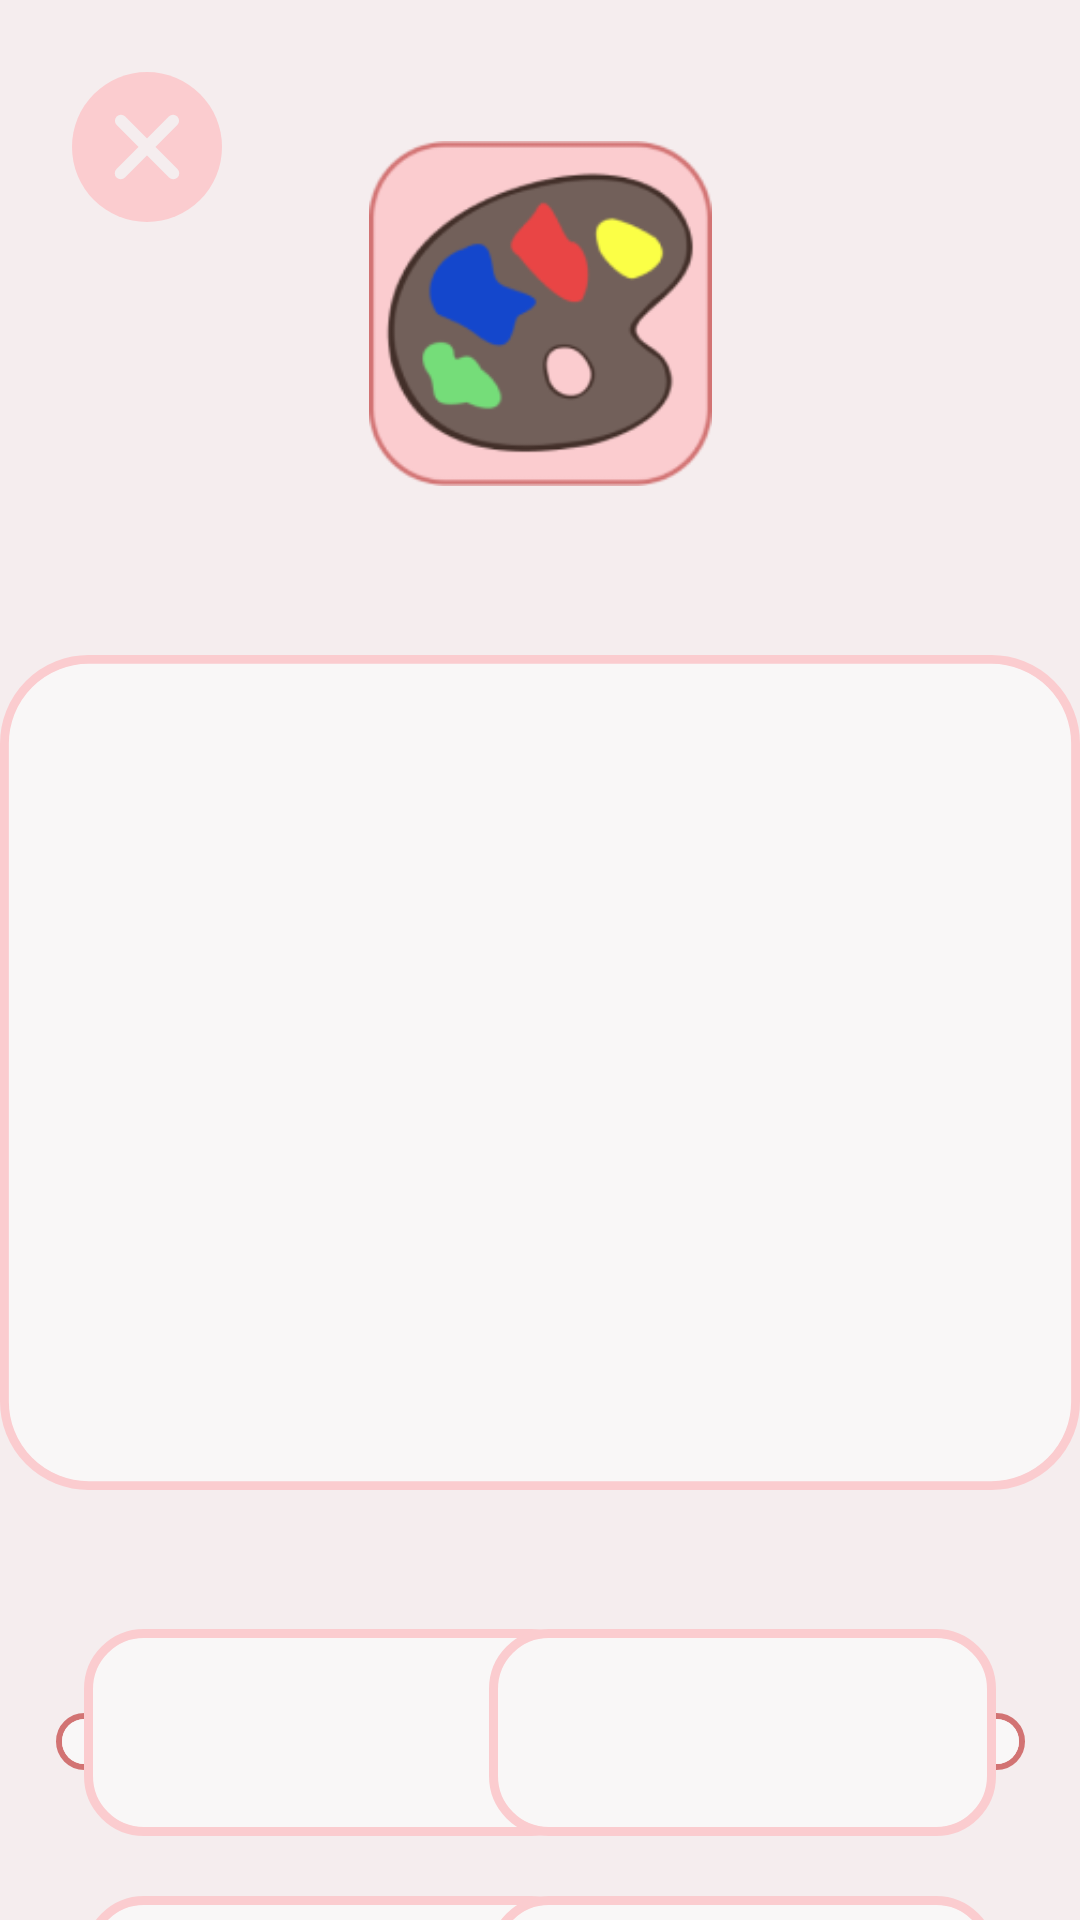

Screen size 1080×1920. Icon name, then its box in pixels as (x1, y1, x2, y2):
colorgameicon: (369, 141, 712, 486)
colourgameexit: (72, 72, 222, 222)
